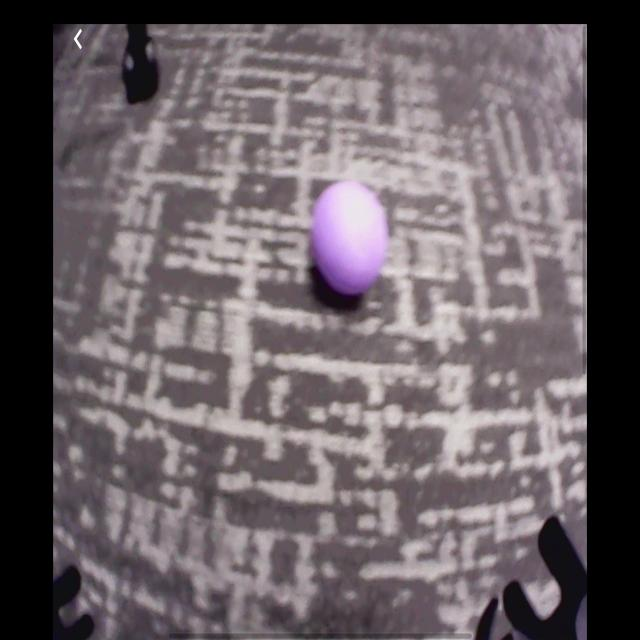ball: (313, 182, 389, 295)
